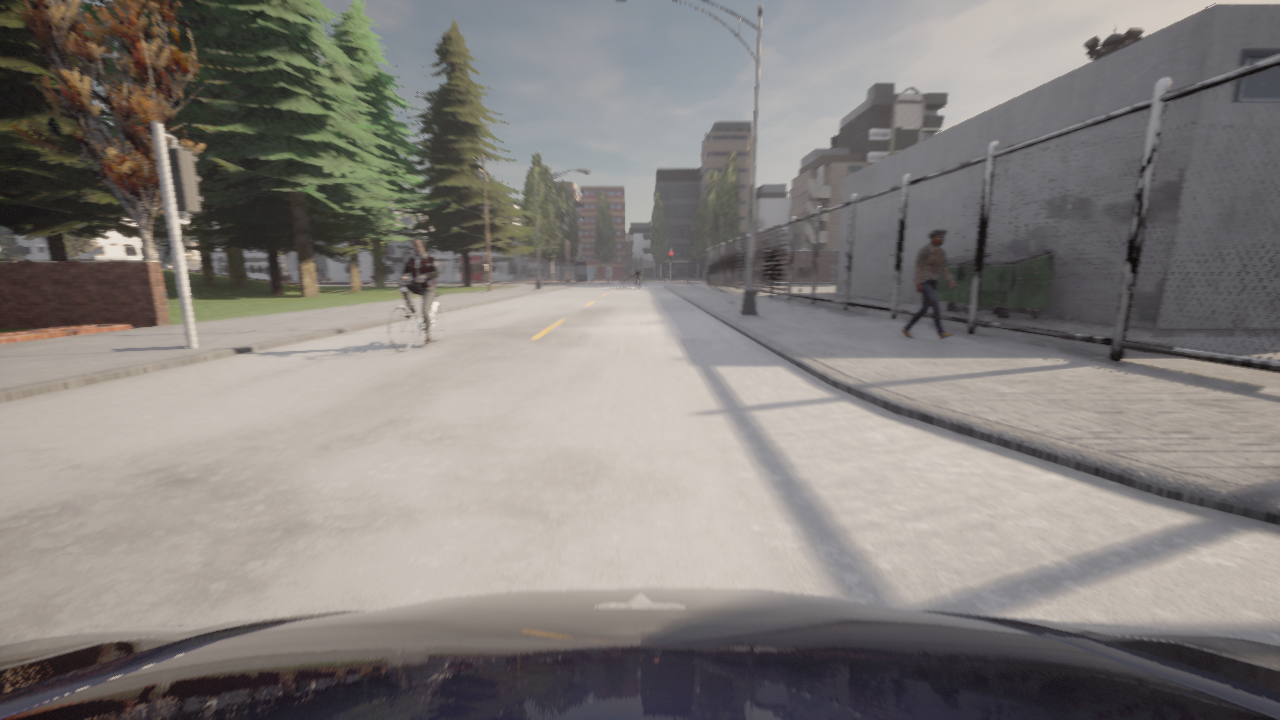cyclist: (0, 588, 1279, 719), (388, 278, 443, 352), (636, 279, 638, 288)
pedestrian: (901, 230, 955, 339)
